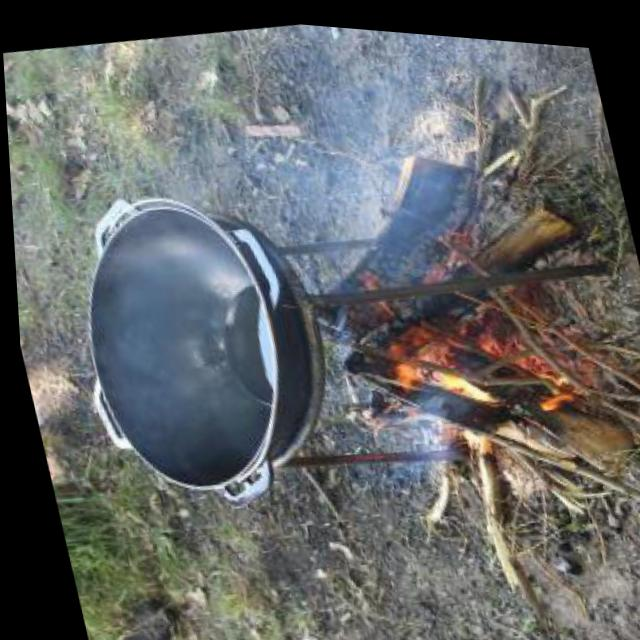Fire: (380, 338, 506, 417), (518, 349, 585, 414)
